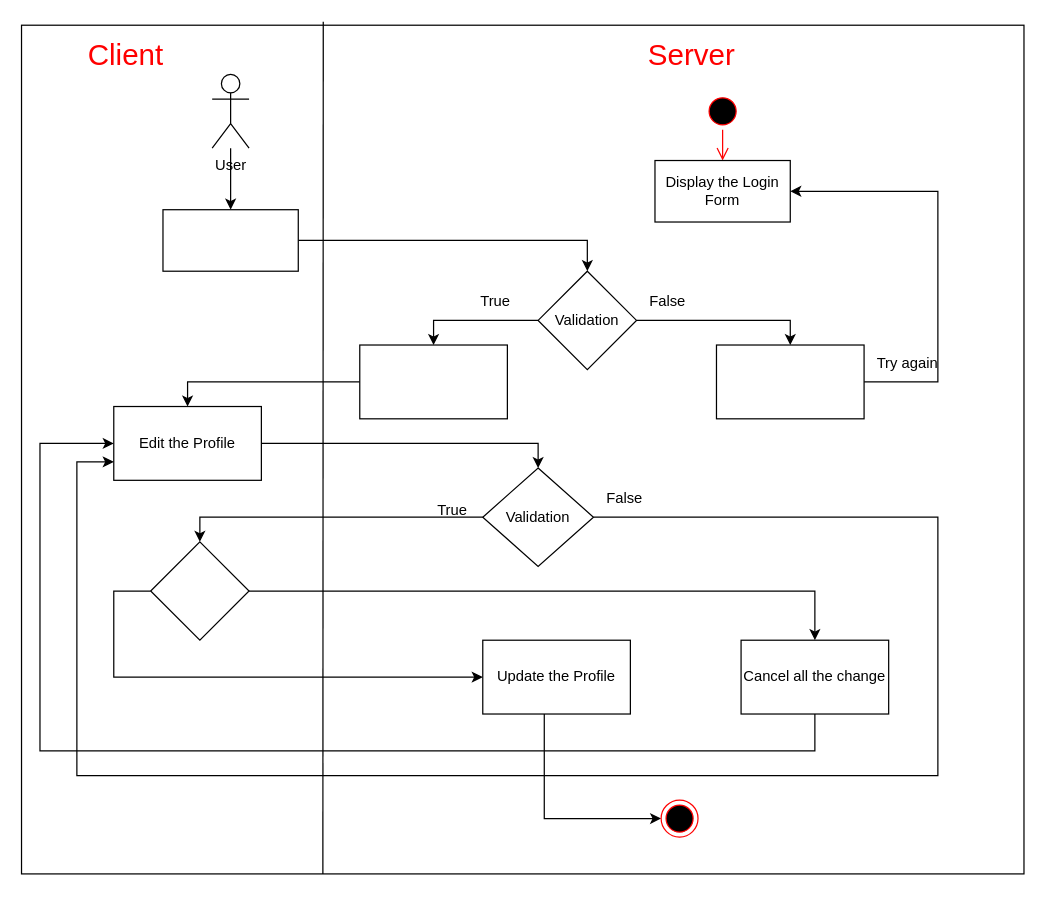
The diagram is 1046 pixels wide and 897 high, and some of its shapes have lost their labels. The shapes that lost their labels are listed below. From the top down, each one's box as (x1, y1, x2, y2) in pixels, then its label:
(162, 208, 298, 271): Fill in the Login Form
(359, 344, 507, 419): Move to the Profile
(715, 344, 864, 419): Display the Error Message
(149, 541, 249, 640): Update /Cancel
